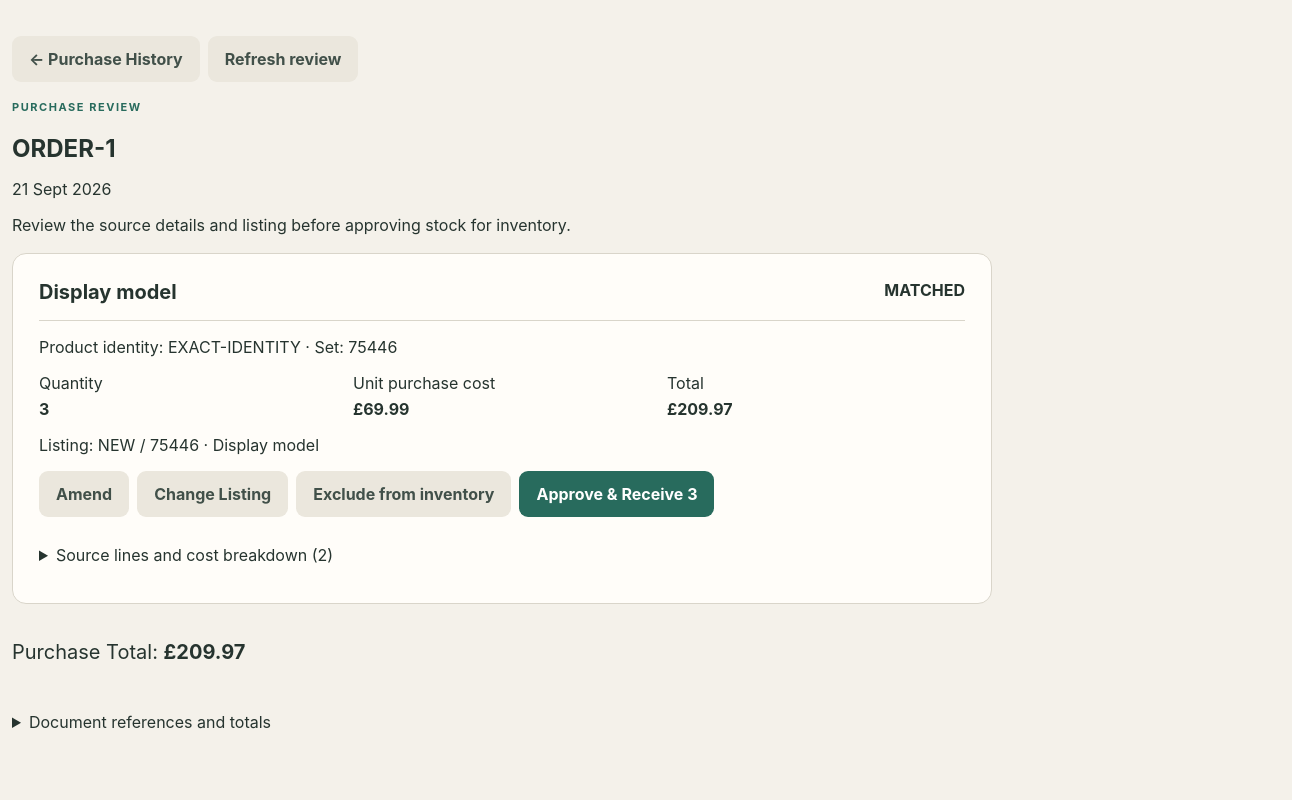
Test: excludes an inventory group using the explicit backend disposition and keeps its purchase details visible
Click the button "Exclude from inventory" at (404, 494), box [296,471,511,517]
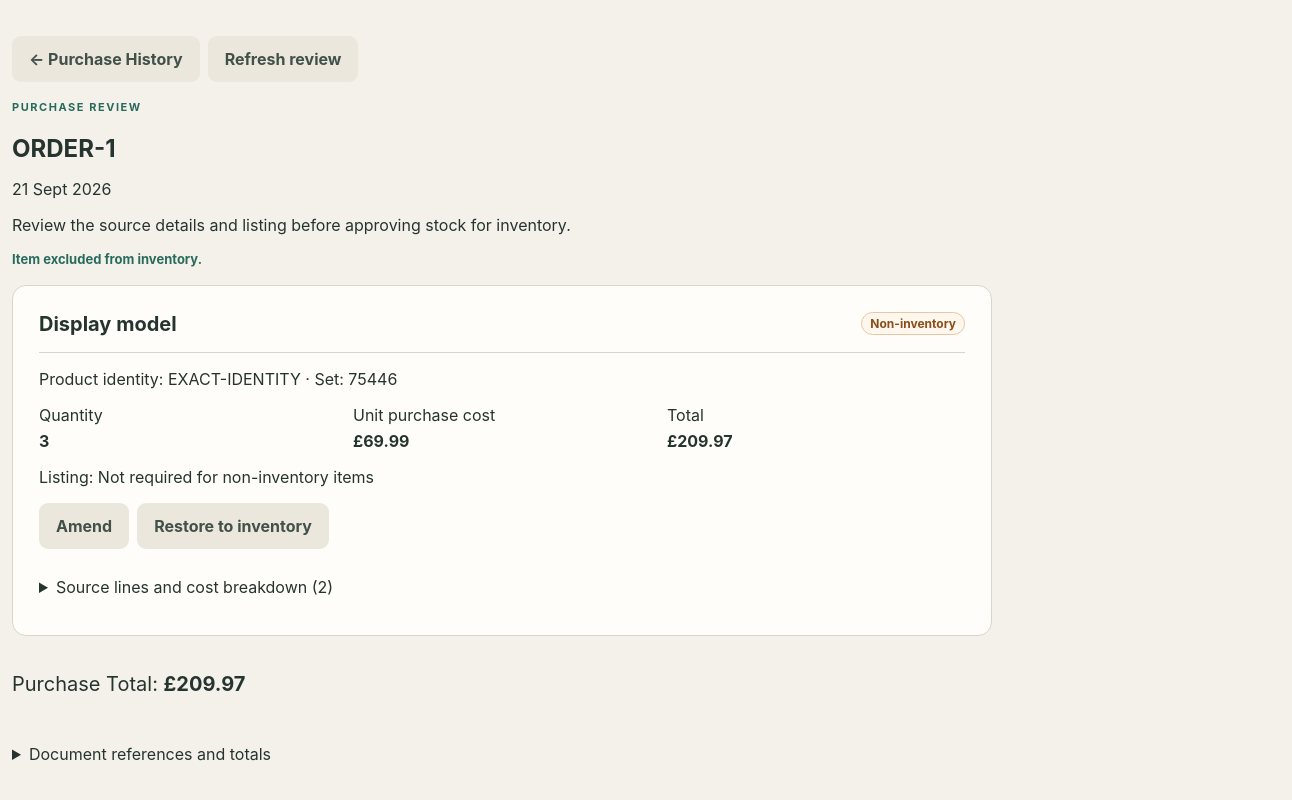
Expected: the text "Non-inventory" is shown, [861,312,965,335]
Expected: the text "Listing: Not required for non-inventory items" is shown, [39,467,374,487]
Expected: the button "Change Listing" is gone
